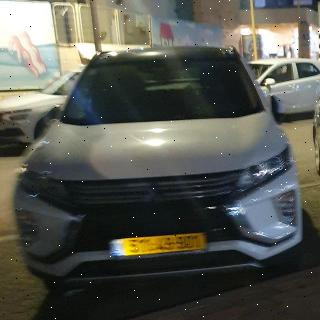LicensePlate: (122, 232, 205, 256)
